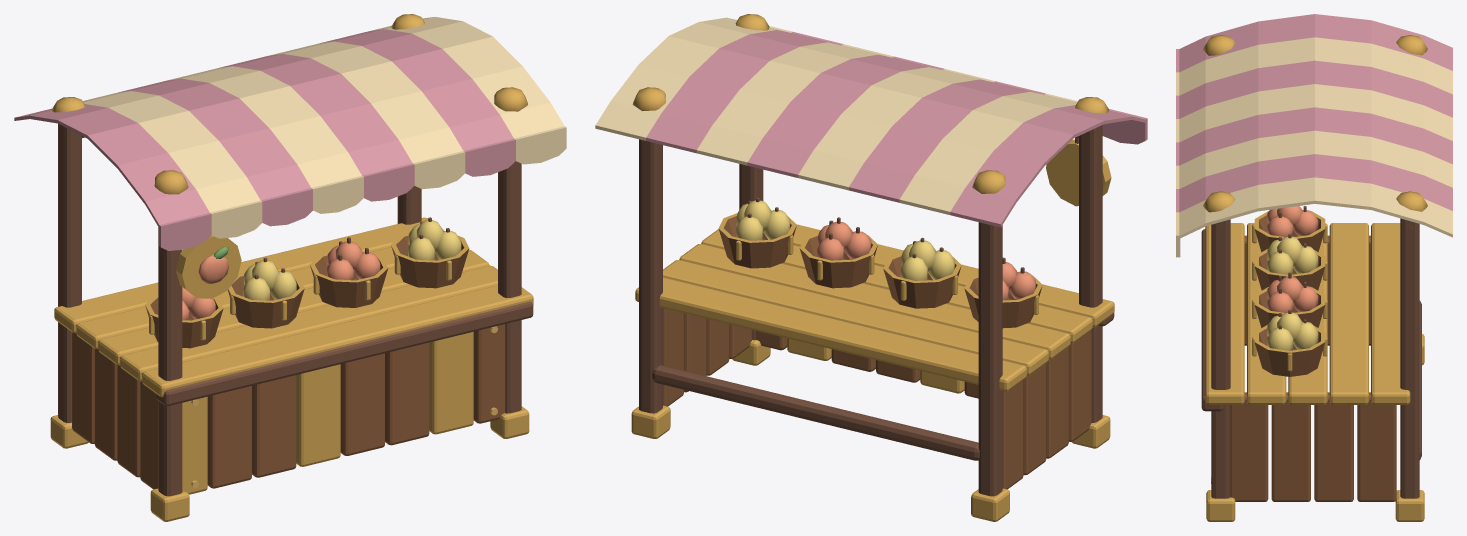
The model's file is market-stall.fbx.
3 views of the same model, side by side, from view 1: azimuth 30°, elevation 25°; view 2: azimuth 150°, elevation 25°; view 3: azimuth 270°, elevation 25° (orthographic). The views are drawn at different scales.
Visible parts, largest first — view 1: market-stall; view 2: market-stall; view 3: market-stall.
Boxes of the visible parts, box(x1,y1,x2,y2) form: market-stall: box(14, 14, 566, 521); market-stall: box(595, 14, 1147, 521); market-stall: box(1176, 14, 1452, 521).
Bounding box in the file's own units: 320 × 265 × 201.
